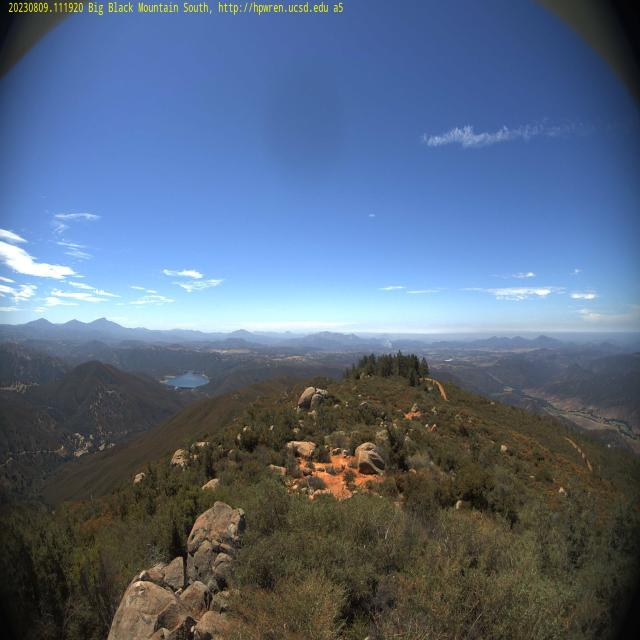smoke: (378, 328, 394, 351)
